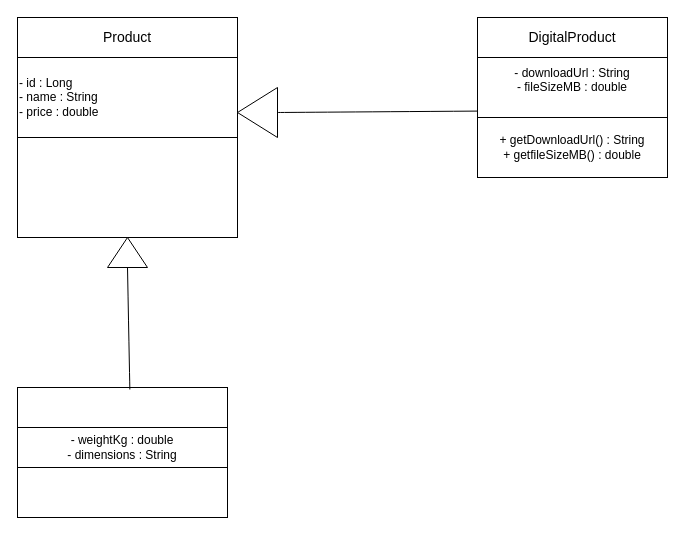
This 685x535 diagram has some shape labels left out. Here are the shapes that lost their labels. From the top down, the centre of each, then its label:
(x=127, y=187): + getId() : Long + getName() : String + getPrice() : double
(x=122, y=407): PhysicalProduct
(x=122, y=492): + getWeightKg() : double + getDimension : String
